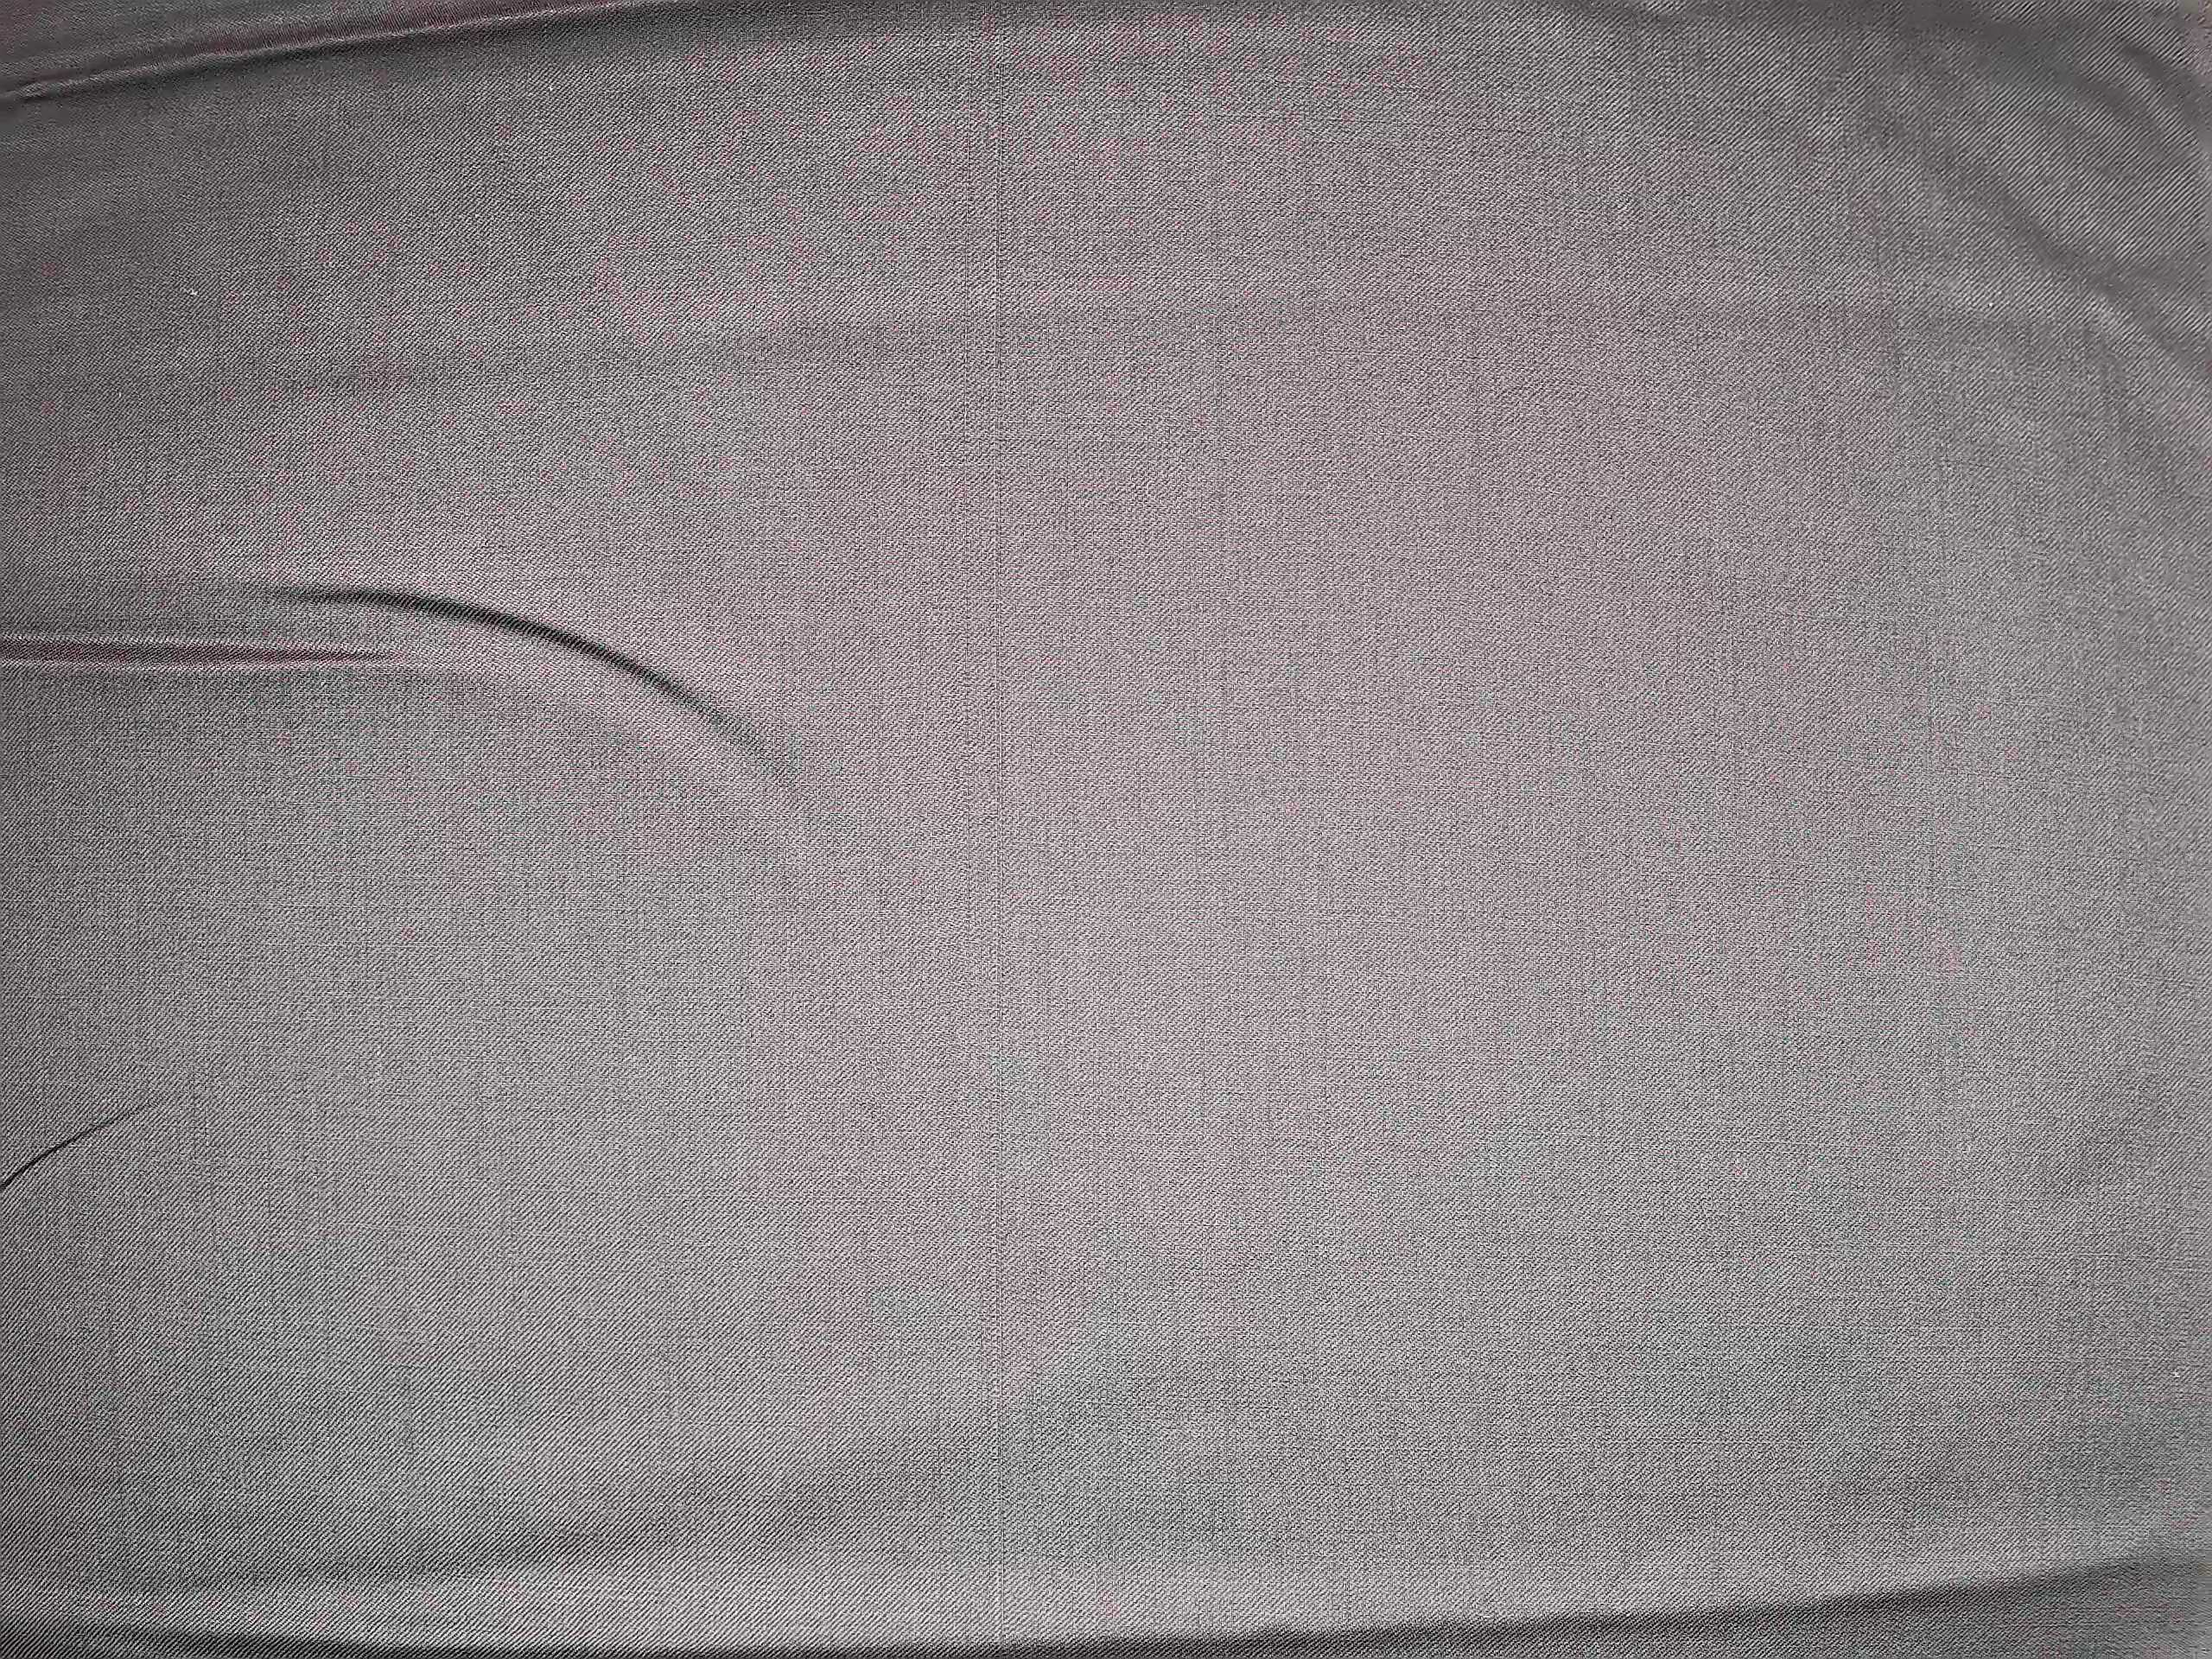hanging-warp: (977, 3, 1028, 1596)
